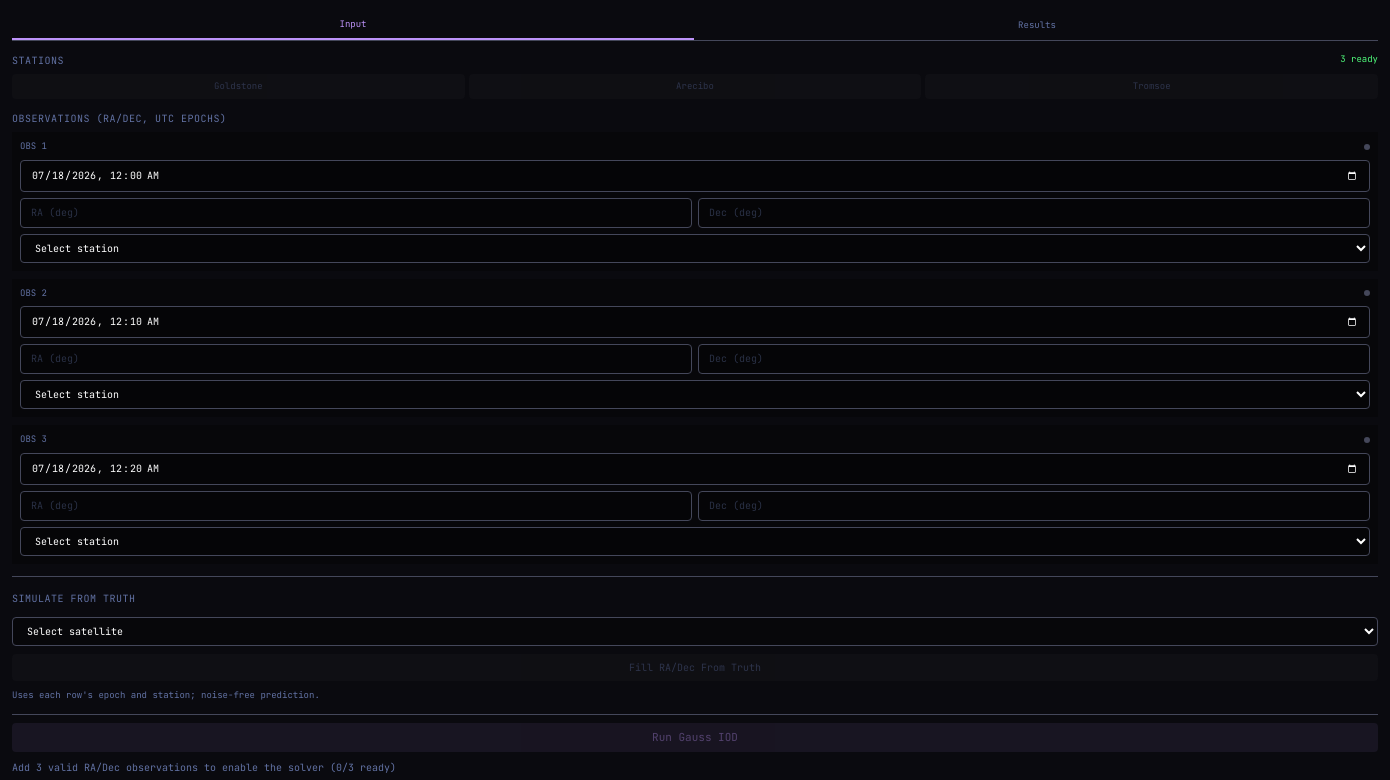
Scenario: IodPanel › simulate from truth fills RA/Dec from the prediction model
The width and height of the screenshot is (1390, 780).
Select "ISS" in the dropdown named "Truth satellite" at (695, 631), box [12, 616, 1378, 646]
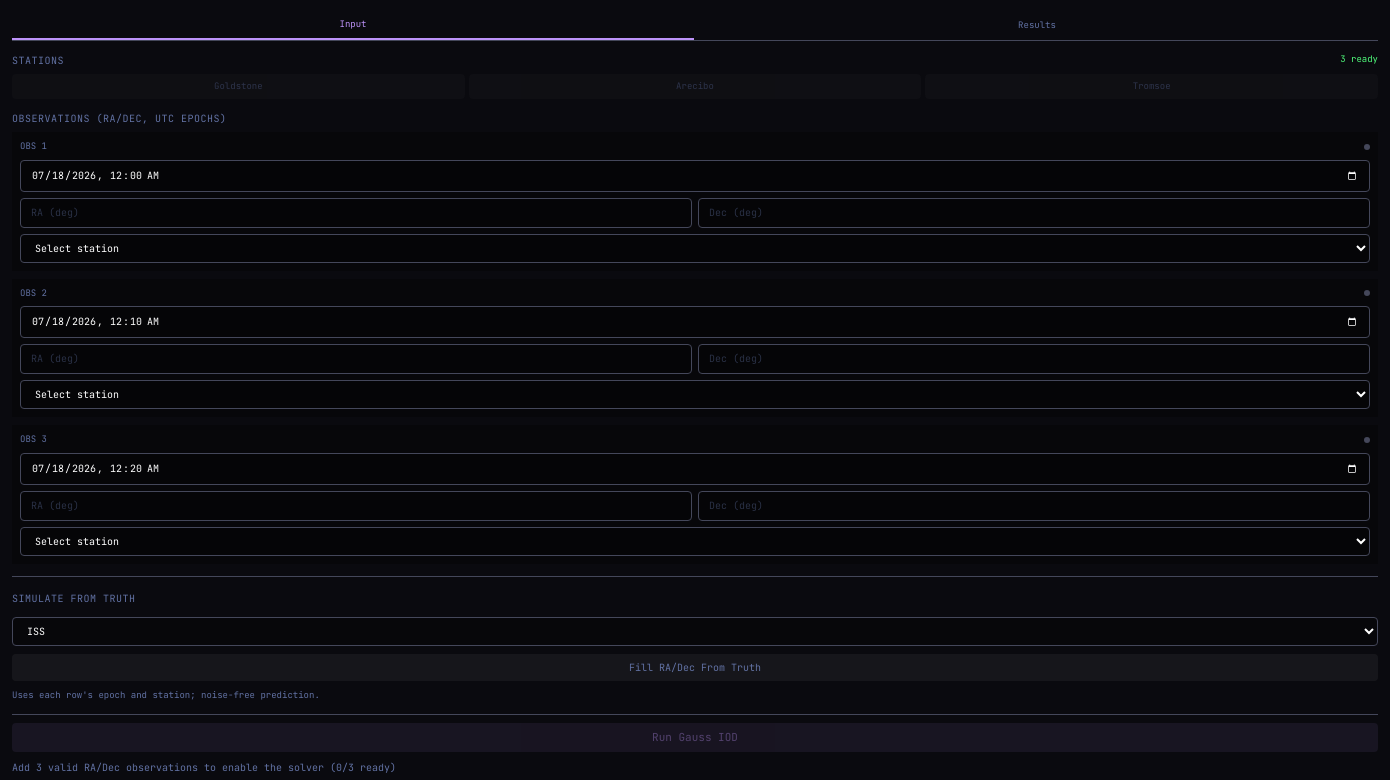
Select "goldstone" in the dropdown named "Observation 1 station" at (695, 248), box [20, 234, 1370, 262]
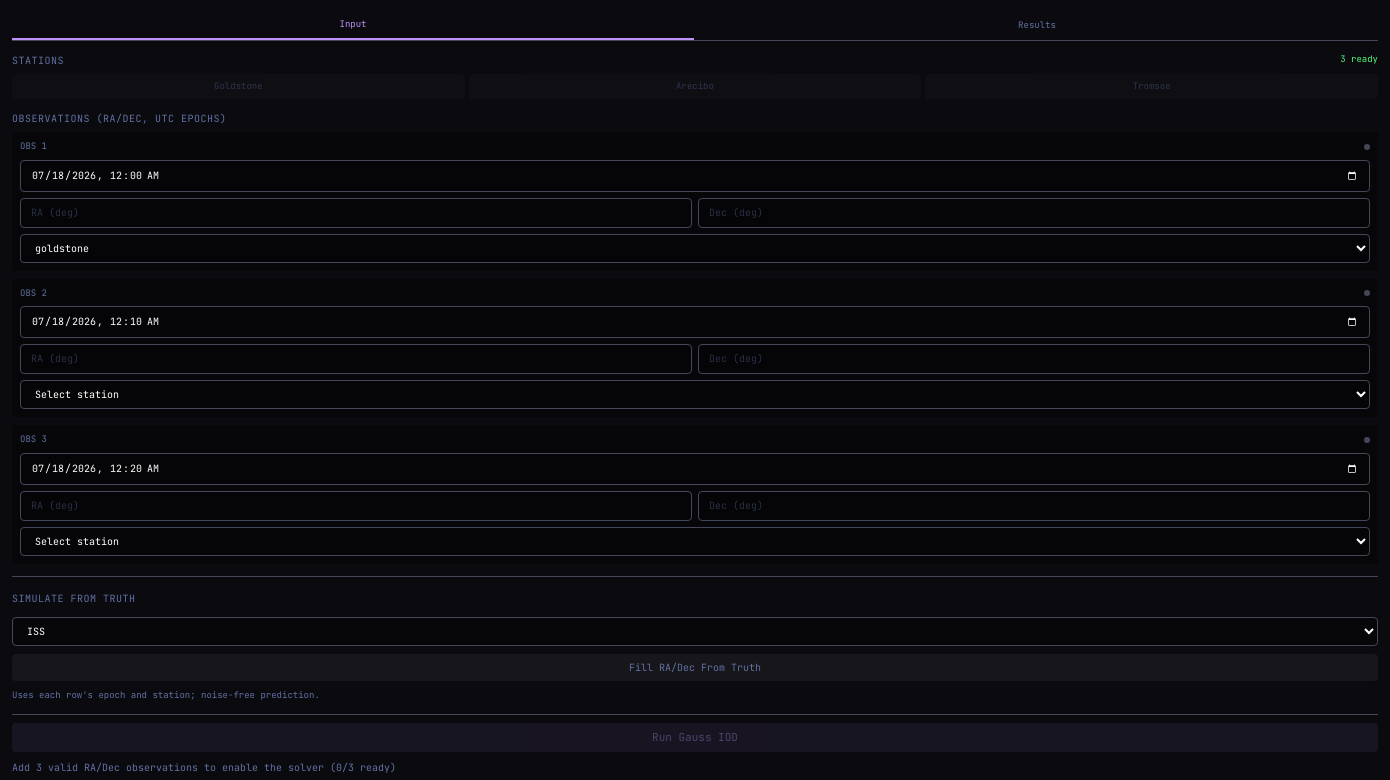
Select "arecibo" in the dropdown named "Observation 2 station" at (695, 394), box [20, 380, 1370, 409]
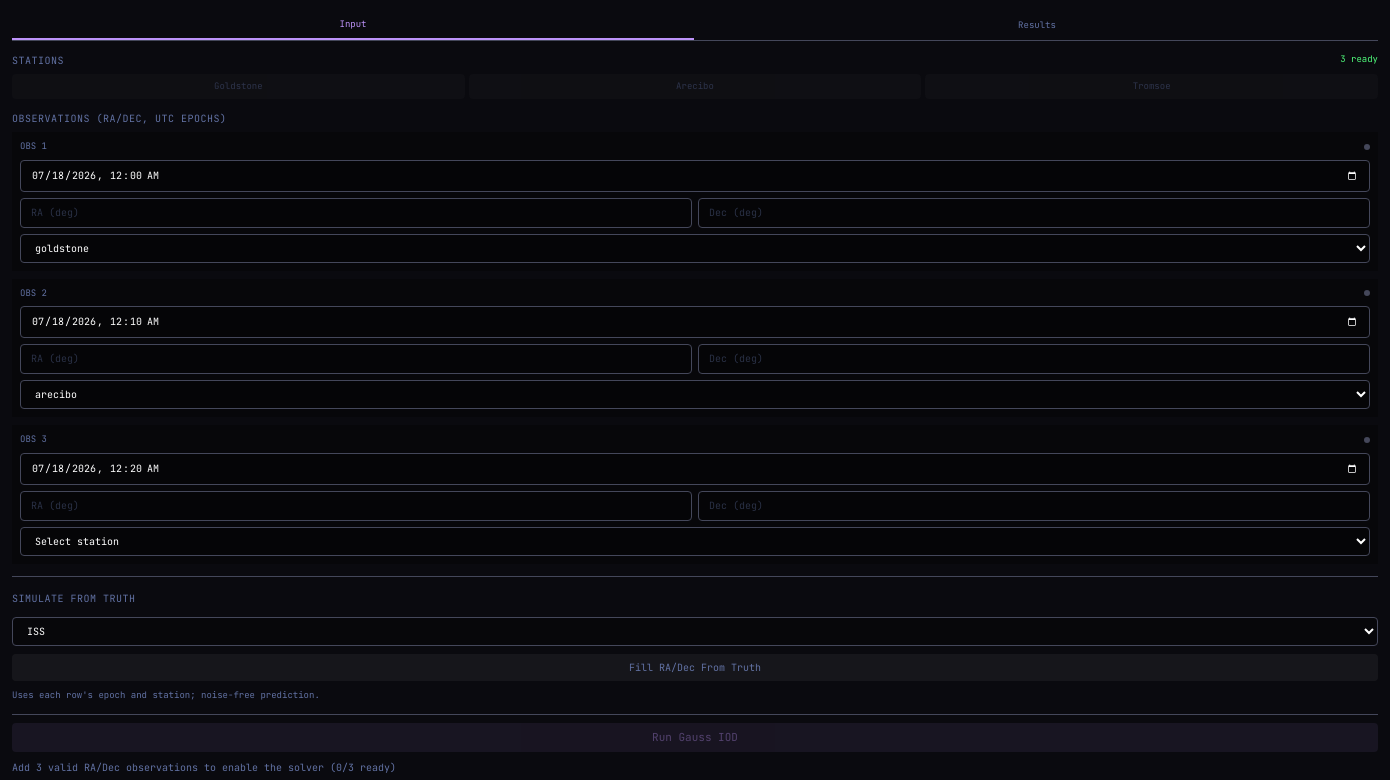
Select "tromsoe" in the dropdown named "Observation 3 station" at (695, 541), box [20, 526, 1370, 556]
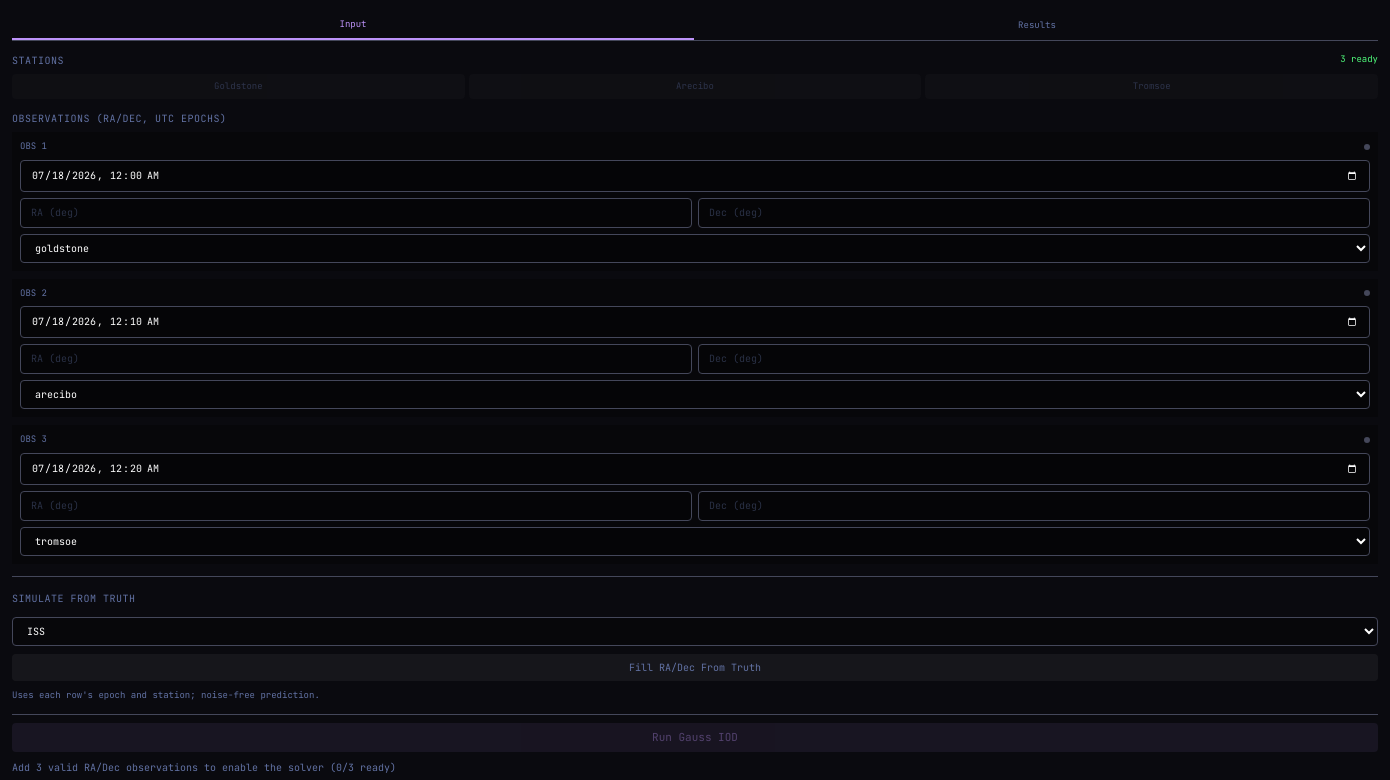
Click the button "Fill RA/Dec From Truth" at (695, 667), box [12, 654, 1378, 680]
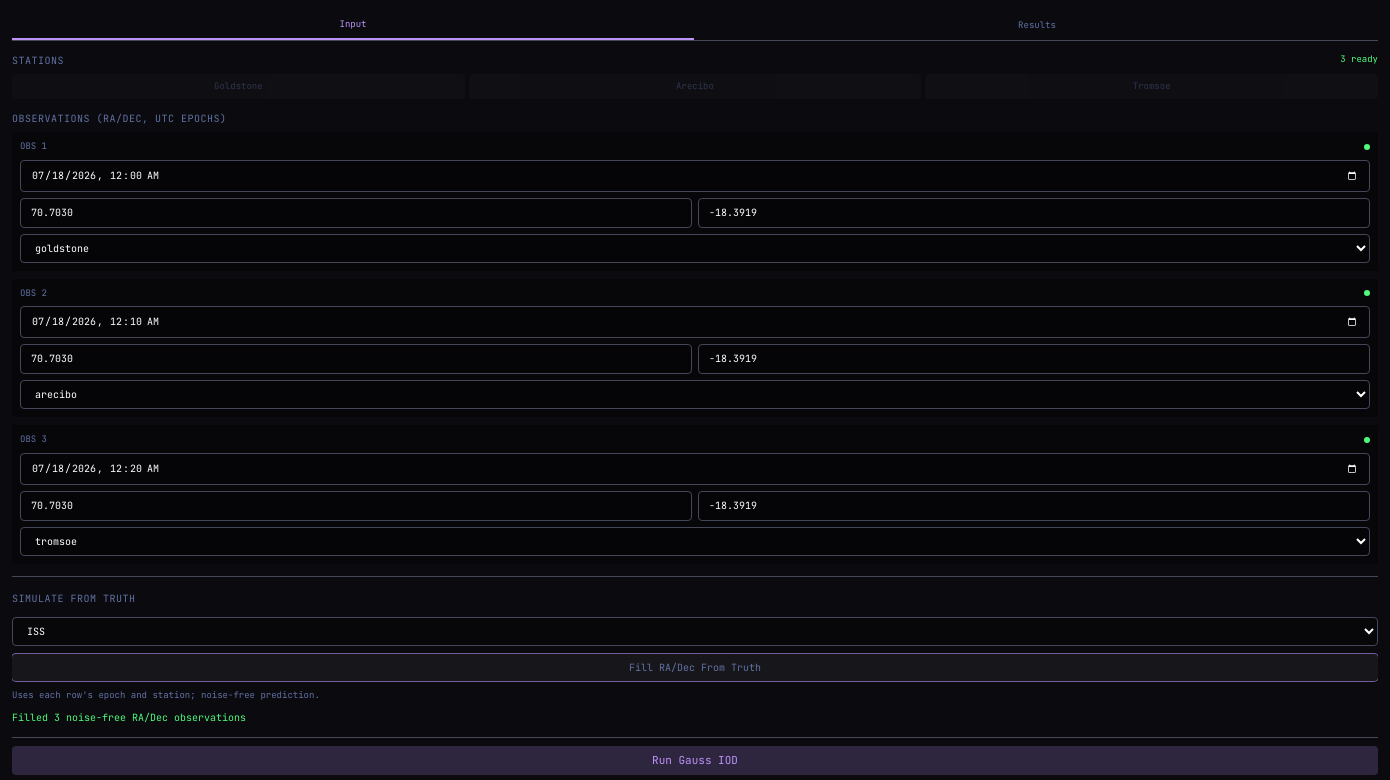
Result: the text "Filled 3 noise-free RA/Dec observations" is shown at [12, 711, 246, 724]
